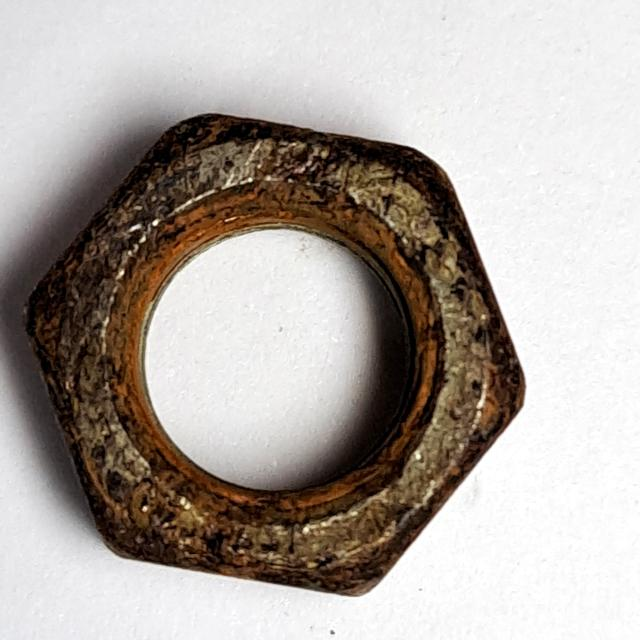Rust: (12, 96, 538, 610)
